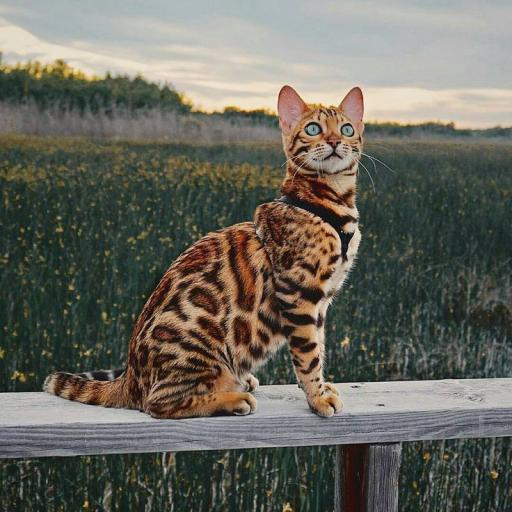cats: (43, 86, 363, 418)
